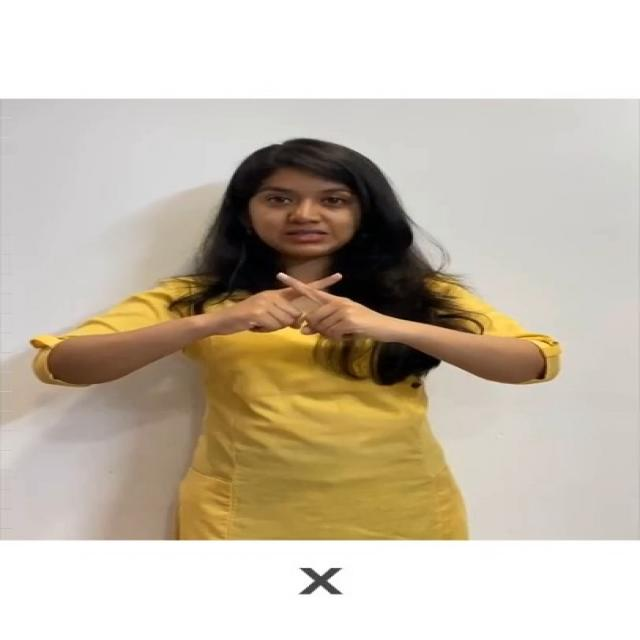X: (205, 264, 400, 344)
